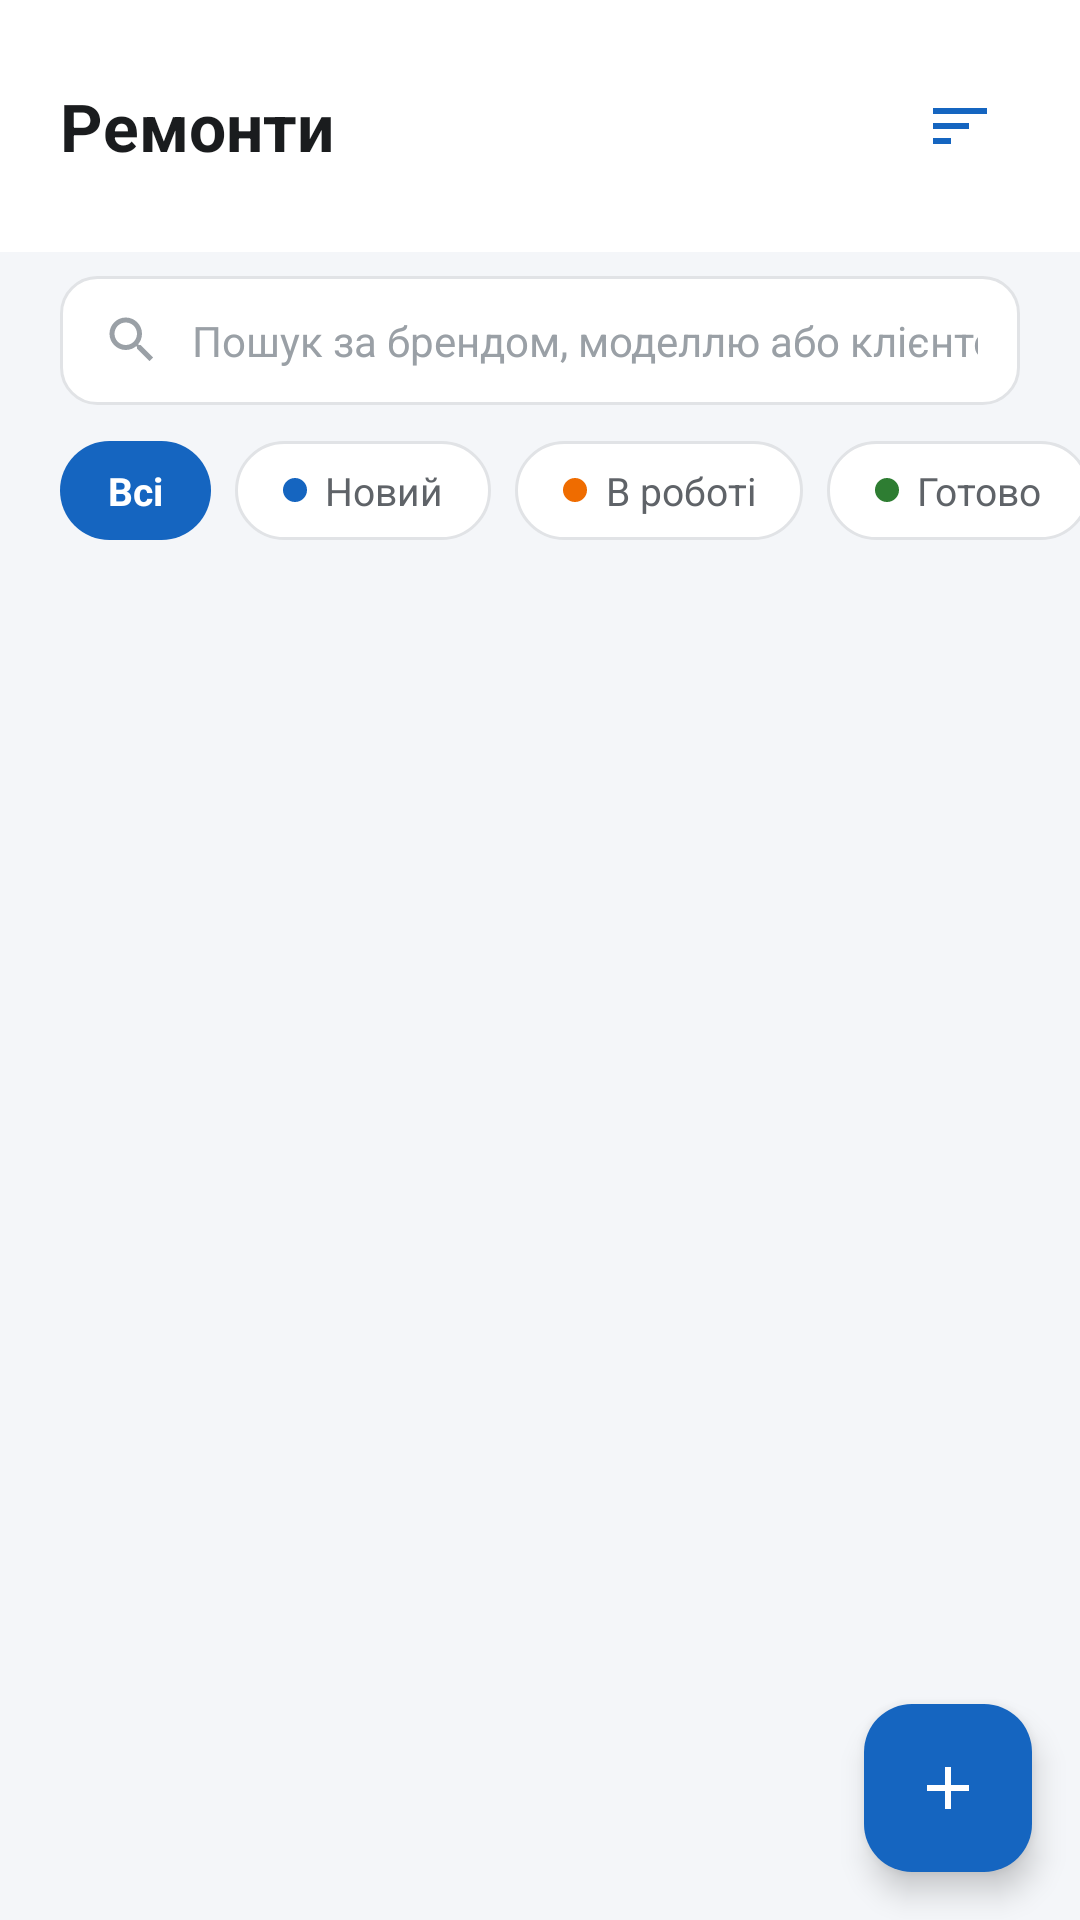

Screen size 1080px×1920px. Icon name, then its center in pixels as [x,y]:
Новий ордер: [948,1788]
Сортування: [960,126]
